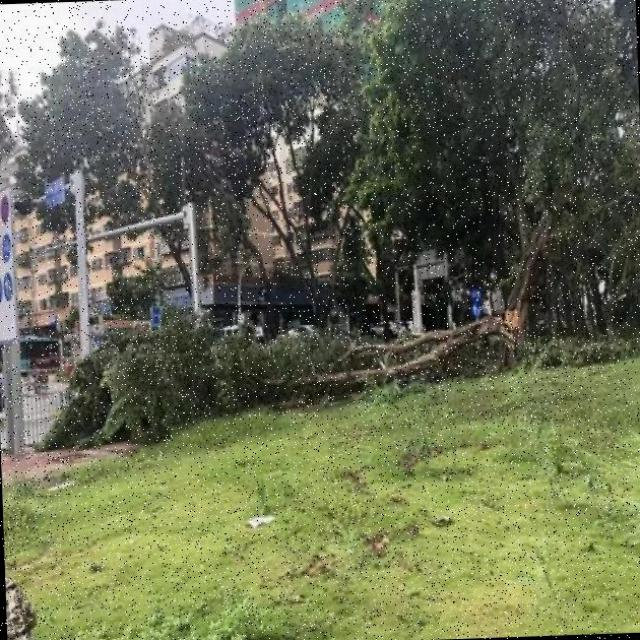fallen_object: (28, 299, 530, 456)
